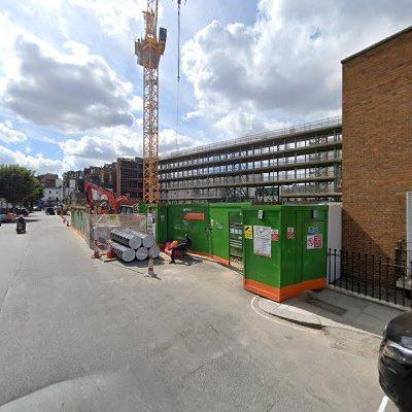moving-car: (45, 206, 55, 216)
moving-motorcycle: (15, 214, 26, 234)
stationary-car-onstreet: (376, 308, 412, 412)
